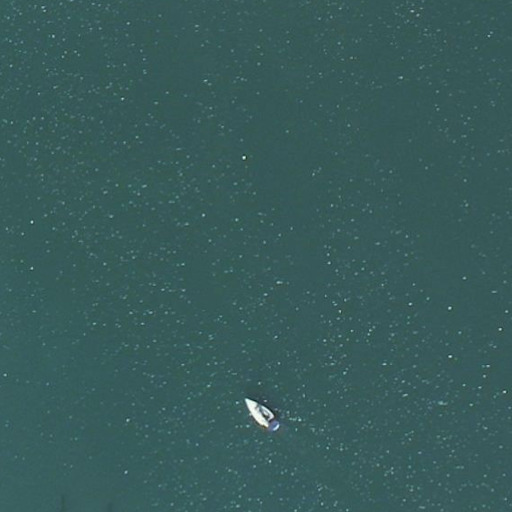ship: (241, 395, 282, 435)
